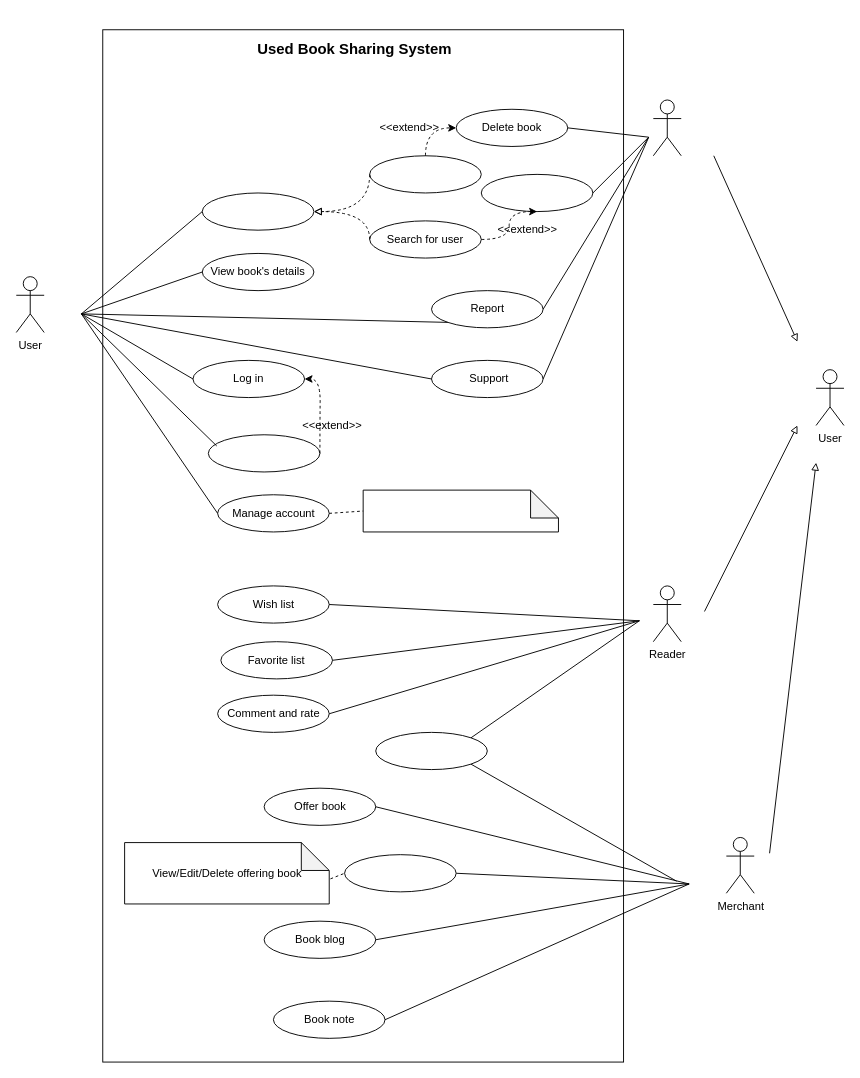
The diagram is 860 pixels wide and 1078 high, and some of its shapes have lost their labels. The box of each missing label's shape, as (x1, y1, x2, y2) in pixels:
Admin: (652, 99, 681, 156)
Ban account: (480, 173, 593, 212)
Create account: (207, 434, 320, 472)
Manage offering books: (344, 854, 456, 892)
Online chat: (375, 731, 487, 770)
Search: (201, 192, 314, 230)
Search for book: (369, 155, 481, 193)
View/Edit profile, change password: (362, 489, 558, 532)
